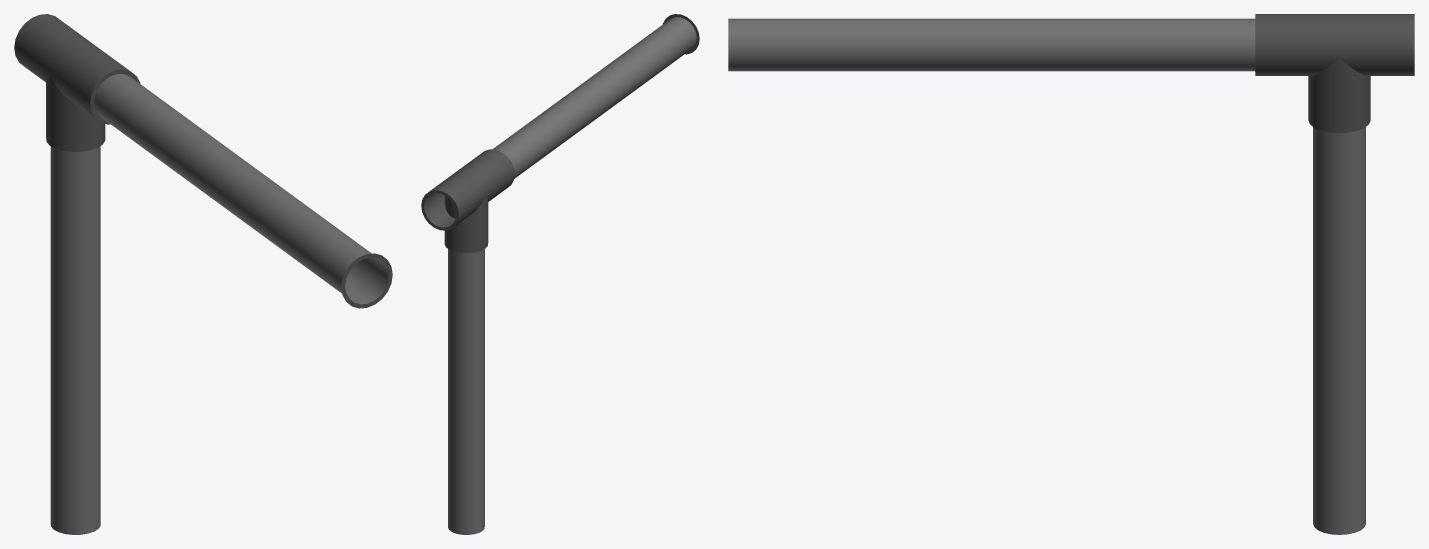
Rendered from TPole_02.fbx.
3 views of the same model, side by side, from view 1: azimuth 30°, elevation 25°; view 2: azimuth 150°, elevation 25°; view 3: azimuth 270°, elevation 25° (orthographic). The views are drawn at different scales.
Parts seen in each view (by area): view 1: WalkWay_TPole_02; view 2: WalkWay_TPole_02; view 3: WalkWay_TPole_02.
Boxes of the visible parts, box(x1,y1,x2,y2) form: WalkWay_TPole_02: box(14, 14, 392, 534); WalkWay_TPole_02: box(421, 14, 699, 534); WalkWay_TPole_02: box(728, 14, 1414, 534).
Size of the model in its own units: 12.95 by 116 by 143.
